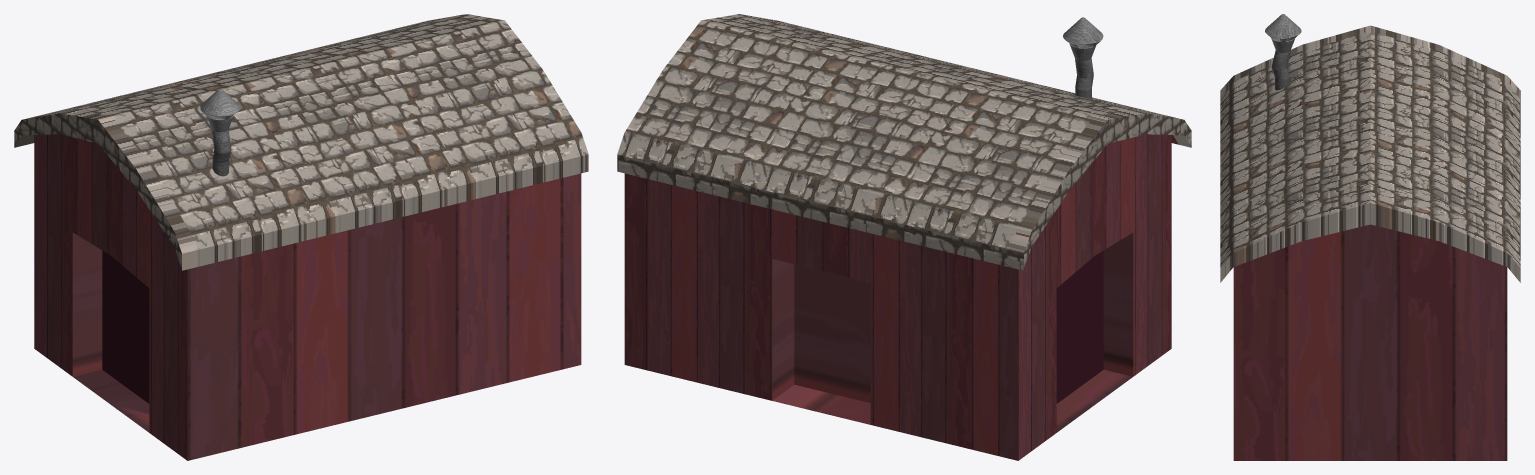
The model's file is lada_2.fbx.
The picture shows the model from 3 angles, left to right: view 1: azimuth 30°, elevation 25°; view 2: azimuth 150°, elevation 25°; view 3: azimuth 270°, elevation 25°; orthographic projection. The views are drawn at different scales.
Visible parts, largest first — view 1: Cube.035, Cylinder.004; view 2: Cube.035, Cylinder.004; view 3: Cube.035, Cylinder.004.
Part boxes in pixels (<box>): Cube.035: <box>14,14,588,460</box>; Cylinder.004: <box>200,88,240,176</box>; Cube.035: <box>617,14,1191,460</box>; Cylinder.004: <box>1063,17,1103,98</box>; Cube.035: <box>1220,25,1520,460</box>; Cylinder.004: <box>1265,14,1301,90</box>.
Bounding box in the file's own units: 529 × 418 × 378.
5 materials, 4 textured.
